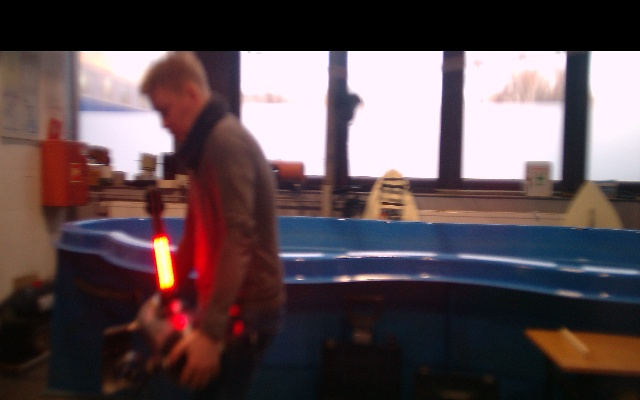red: (152, 235, 176, 291)
